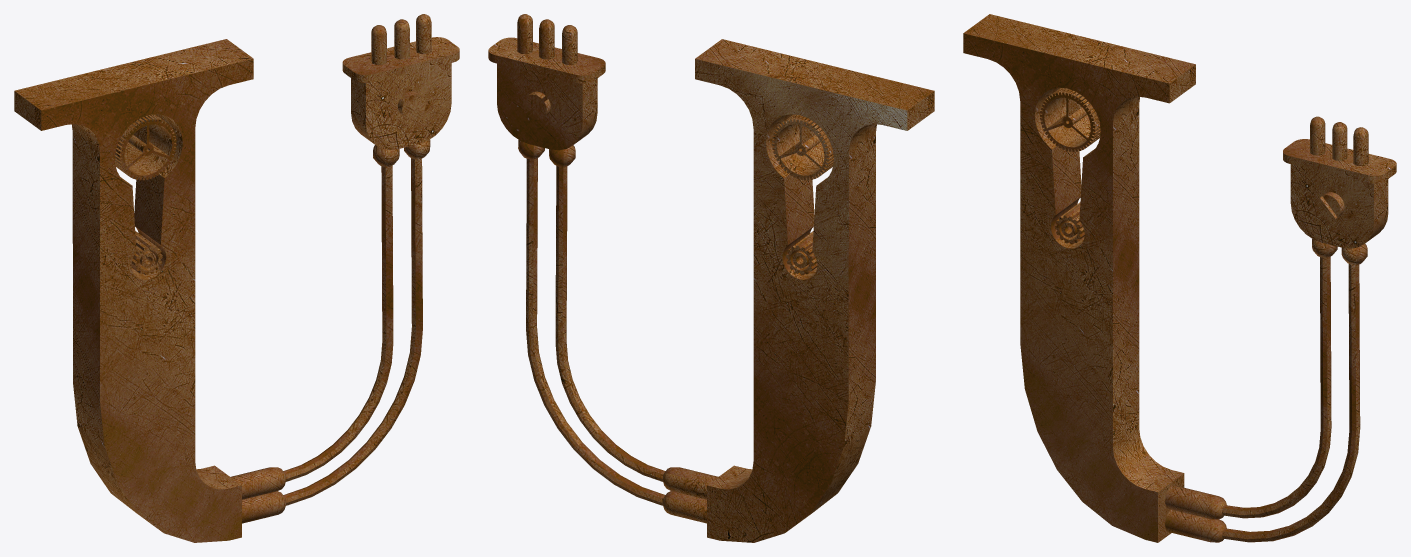
3 views of the same model, side by side, from view 1: azimuth 30°, elevation 25°; view 2: azimuth 150°, elevation 25°; view 3: azimuth 330°, elevation 25° (orthographic). The views are drawn at different scales.
Visible parts, largest first — view 1: U, Tube_361, Tube_360, Cogwheel_221, Capsule_027, Capsule_021, Cogwheel_225, Capsule_025, Capsule_026, Capsule_020, Screw_815; view 2: U, Tube_361, Tube_360, Cogwheel_221, Capsule_027, Capsule_021, Cogwheel_225, Capsule_025, Capsule_026, Capsule_020, Screw_815; view 3: U, Tube_361, Tube_360, Cogwheel_221, Capsule_027, Capsule_021, Cogwheel_225, Screw_815, Capsule_020, Capsule_026, Capsule_025.
Part boxes in pixels (<box>): U: <box>14,37,459,542</box>; Tube_361: <box>283,158,422,505</box>; Tube_360: <box>283,165,393,481</box>; Cogwheel_221: <box>115,114,176,180</box>; Capsule_027: <box>231,467,286,499</box>; Capsule_021: <box>242,491,286,523</box>; Cogwheel_225: <box>131,231,162,275</box>; Capsule_025: <box>394,19,409,59</box>; Capsule_026: <box>416,14,431,54</box>; Capsule_020: <box>371,25,386,64</box>; Screw_815: <box>397,91,425,119</box>; U: <box>488,37,934,542</box>; Tube_361: <box>526,158,665,505</box>; Tube_360: <box>555,166,665,481</box>; Cogwheel_221: <box>772,114,833,180</box>; Capsule_027: <box>662,467,718,499</box>; Capsule_021: <box>662,491,706,523</box>; Cogwheel_225: <box>786,231,817,275</box>; Capsule_025: <box>539,19,554,59</box>; Capsule_026: <box>517,14,532,54</box>; Capsule_020: <box>562,25,577,64</box>; Screw_815: <box>523,91,550,119</box>; U: <box>963,14,1396,542</box>; Tube_361: <box>1222,264,1360,542</box>; Tube_360: <box>1222,257,1331,518</box>; Cogwheel_221: <box>1040,88,1100,151</box>; Capsule_027: <box>1165,485,1226,519</box>; Capsule_021: <box>1165,509,1226,542</box>; Cogwheel_225: <box>1055,202,1084,244</box>; Screw_815: <box>1317,192,1344,219</box>; Capsule_020: <box>1310,116,1325,155</box>; Capsule_026: <box>1353,127,1368,166</box>; Capsule_025: <box>1332,122,1347,160</box>.
Size of the model in its own units: 90.64 by 96.82 by 10.
1 material, 1 textured.
